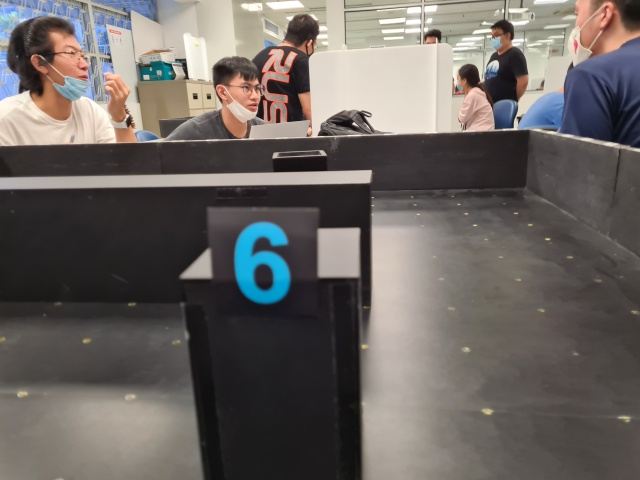six: (204, 204, 321, 316)
